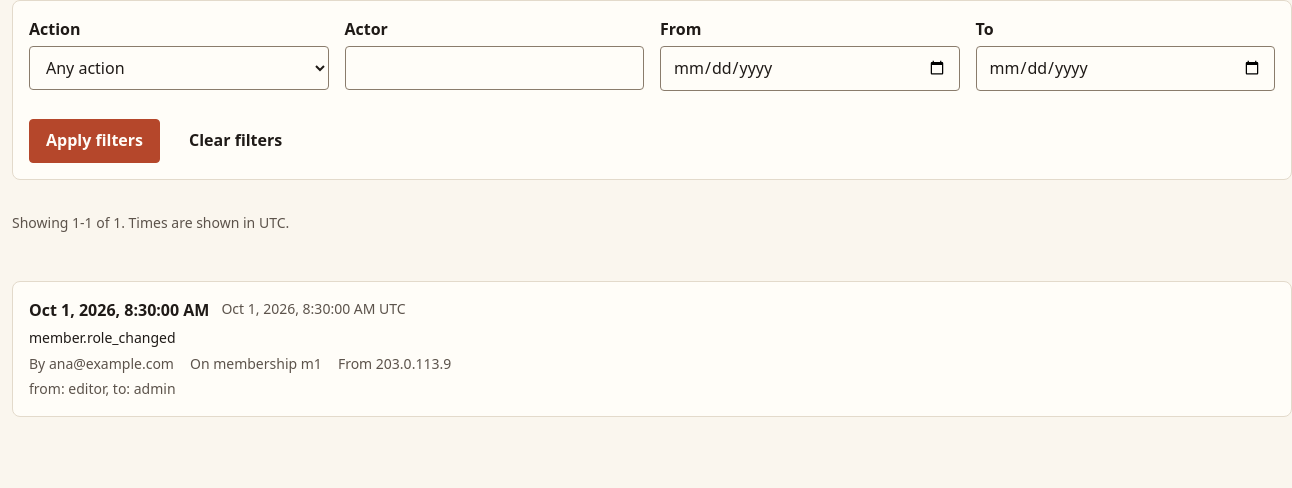
Test: AuditLog › refuses a range that ends before it starts
Type "2026-10-05" into the date field labelled "From" at (810,68), box [660, 46, 960, 91]
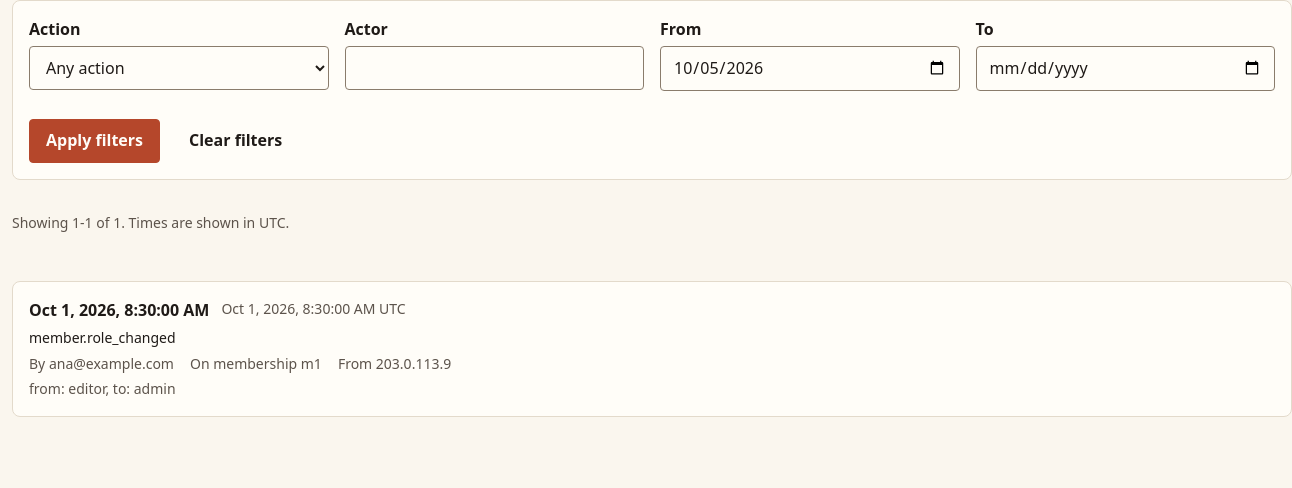
Type "2026-10-01" into the date field labelled "To" at (1125,68), box [976, 46, 1275, 91]
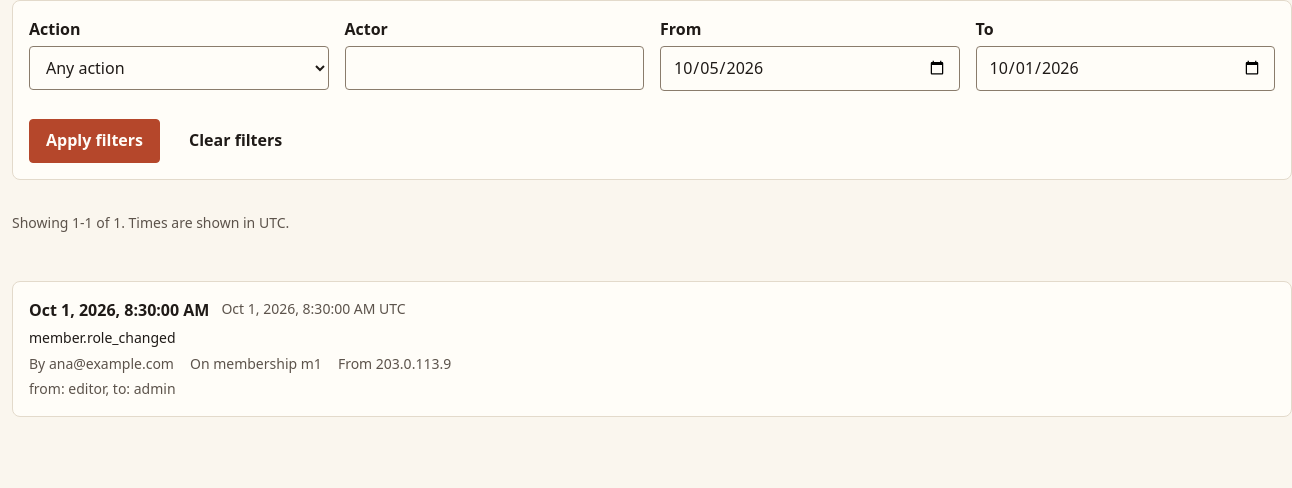
Click the button "Apply filters" at (94,141), box [29, 119, 160, 163]
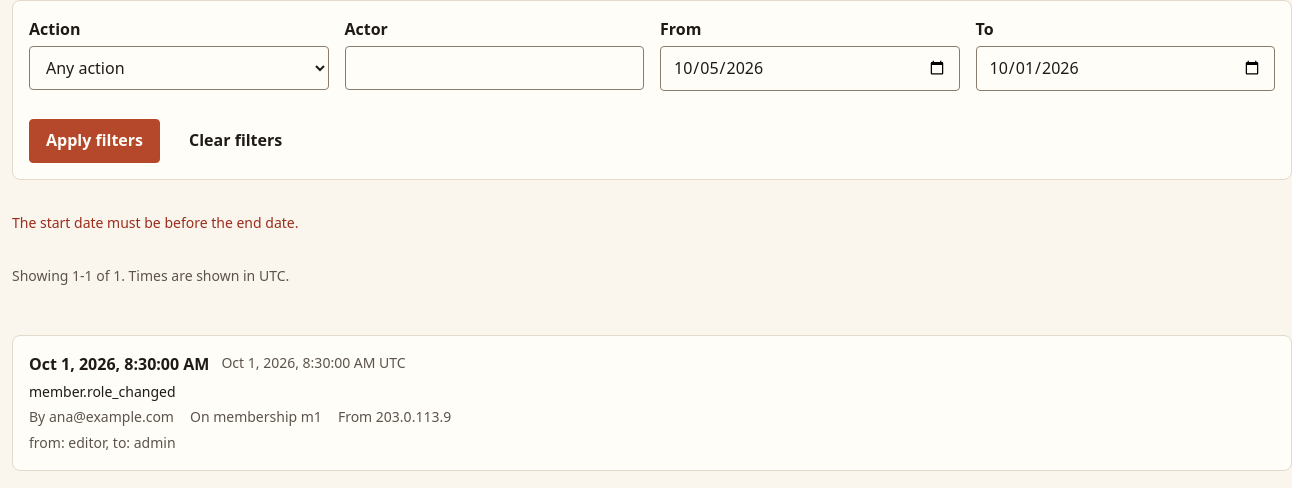
Result: the message reads "The start date must be before the end date." at [12, 213, 298, 232]
